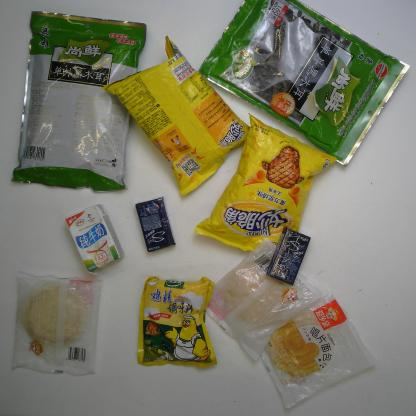Dessert: (203, 238, 322, 363), (260, 294, 378, 411), (12, 269, 104, 377)
Dried Food: (200, 4, 412, 164), (10, 9, 148, 192)
Gum: (265, 226, 313, 286), (134, 195, 176, 253)
Milk: (64, 204, 126, 278)
Puffed Food: (106, 32, 252, 193), (192, 109, 341, 264)
Seasoner: (135, 274, 218, 368)
